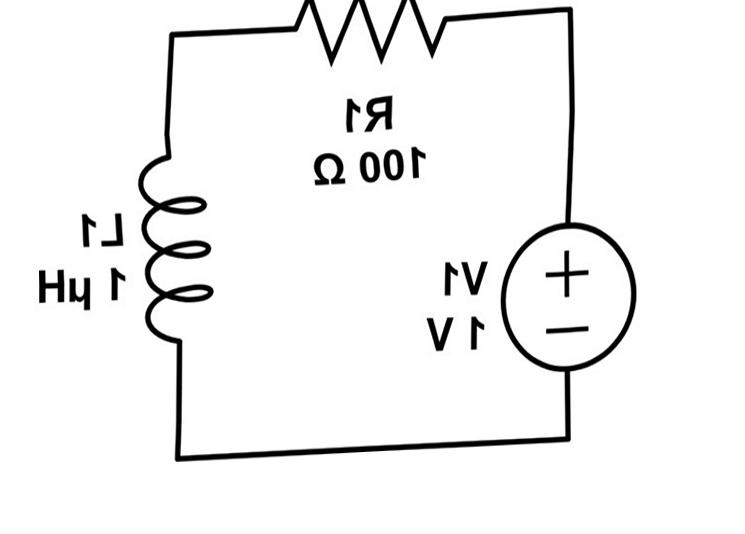Battery: (480, 219, 675, 384)
